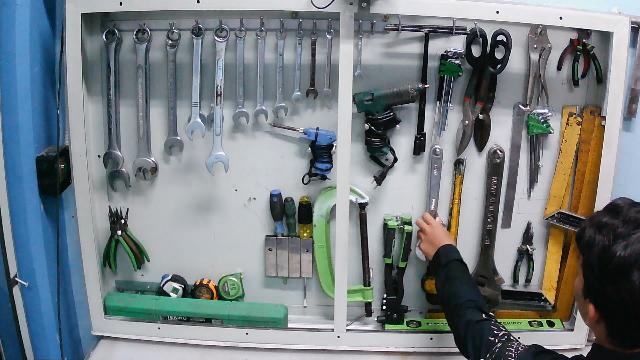kunci_inggris: (415, 145, 444, 262)
